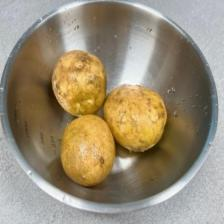Potato: (103, 82, 166, 152), (59, 113, 116, 187), (50, 49, 108, 117)
